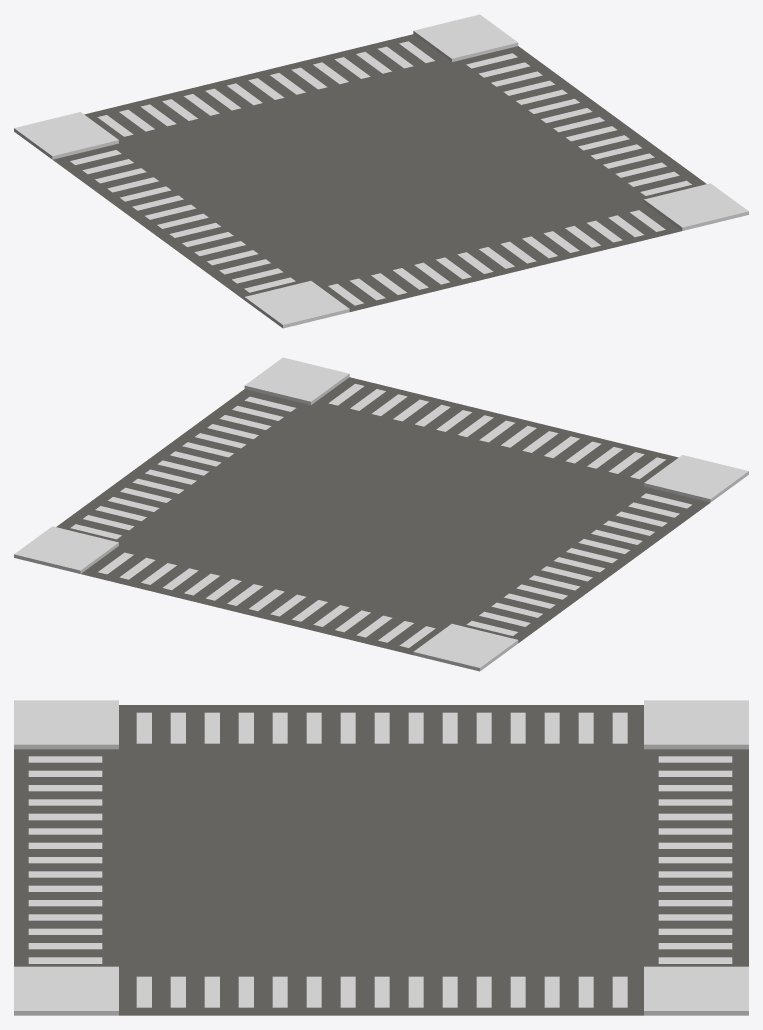
Rendered from IntersectionT.fbx.
The picture shows the model from 3 angles, top to bottom: view 1: azimuth 30°, elevation 25°; view 2: azimuth 150°, elevation 25°; view 3: azimuth 270°, elevation 25°; orthographic projection. The views are drawn at different scales.
Visible parts, largest first — view 1: IntersectionBox; view 2: IntersectionBox; view 3: IntersectionBox.
Part boxes in pixels (bbox=[...]): IntersectionBox: bbox=[14, 14, 748, 328]; IntersectionBox: bbox=[14, 357, 748, 671]; IntersectionBox: bbox=[14, 700, 748, 1015].
Size of the model in its own units: 1400 by 10 by 1400.
